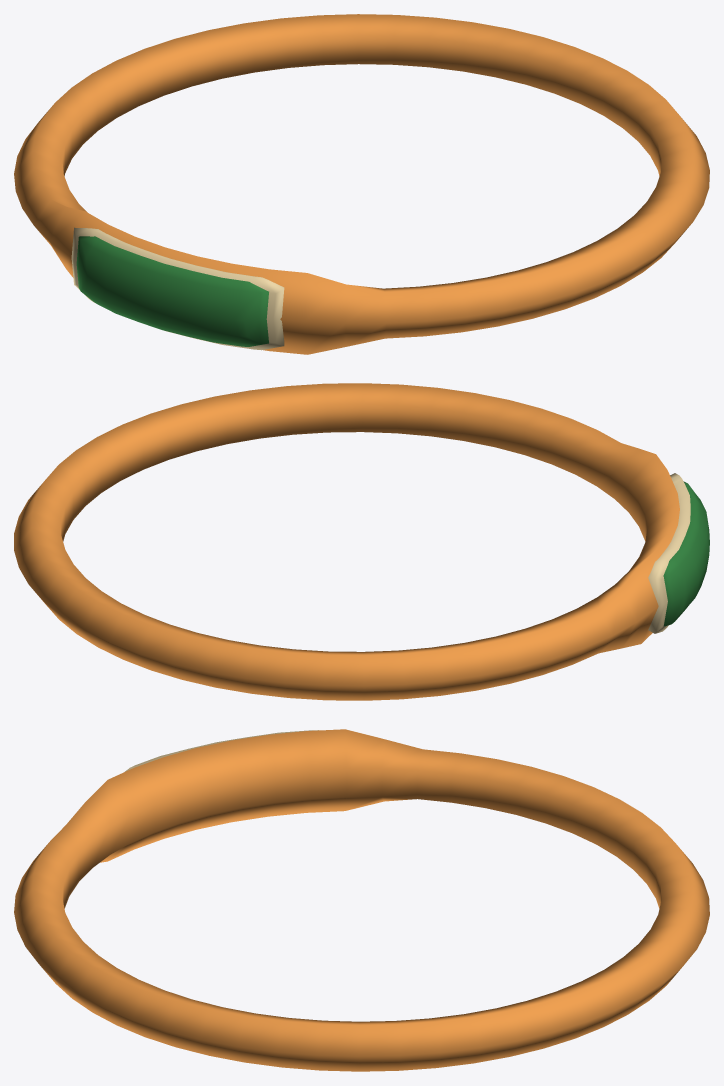
File: GoldRing.fbx
The picture shows the model from 3 angles, top to bottom: view 1: azimuth 30°, elevation 25°; view 2: azimuth 150°, elevation 25°; view 3: azimuth 270°, elevation 25°; orthographic projection. The views are drawn at different scales.
Visible parts, largest first — view 1: Ring; view 2: Ring; view 3: Ring.
Boxes of the visible parts, x1=… form: Ring: x1=14, y1=14, x2=709, y2=354; Ring: x1=14, y1=383, x2=709, y2=700; Ring: x1=14, y1=729, x2=709, y2=1071.
Size of the model in its own units: 1.89 by 0.2428 by 1.87.
